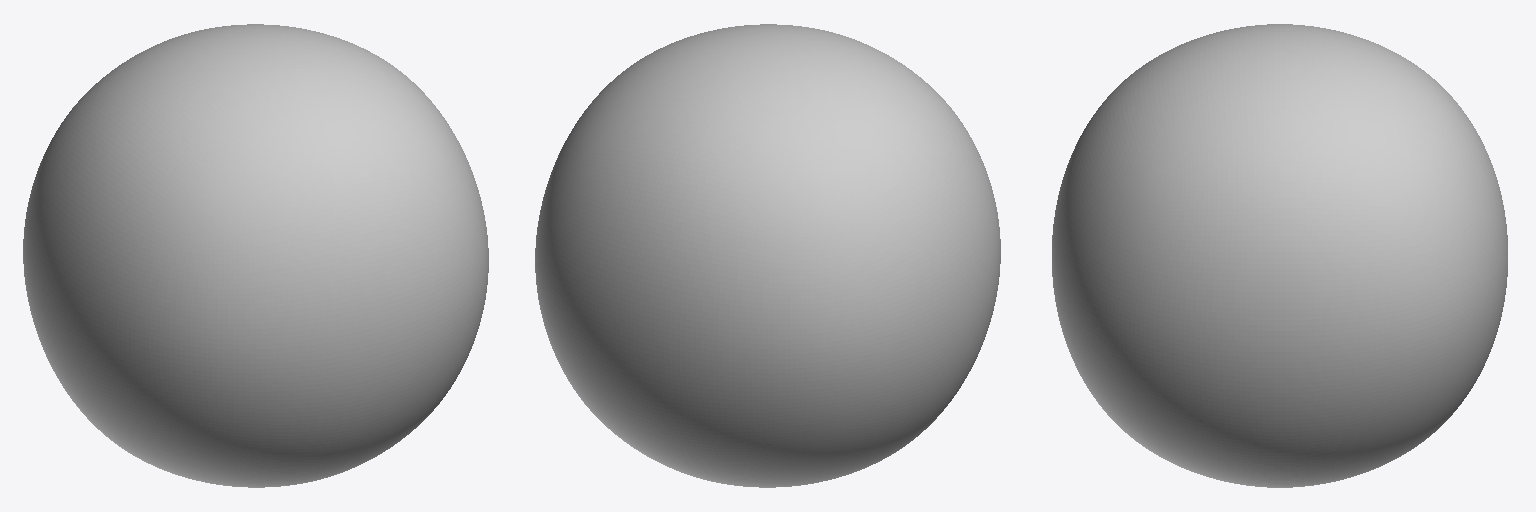
Rendered from stress_ball.obj.
The picture shows the model from 3 angles: view 1: azimuth 30°, elevation 25°; view 2: azimuth 150°, elevation 25°; view 3: azimuth 270°, elevation 25°; orthographic projection.
Parts seen in each view (by area): view 1: Cube; view 2: Cube; view 3: Cube.
Boxes of the visible parts, box(x1,y1,x2,y2) form: Cube: box(23, 24, 488, 487); Cube: box(535, 24, 1000, 487); Cube: box(1052, 24, 1507, 487).
Size of the model in its own units: 1.68 by 1.68 by 1.68.